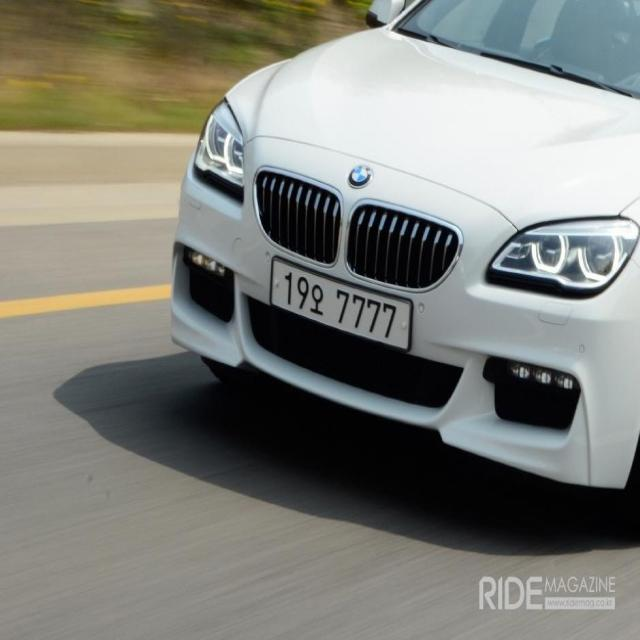car: (164, 0, 640, 532)
illegal_plate: (262, 254, 415, 358)
